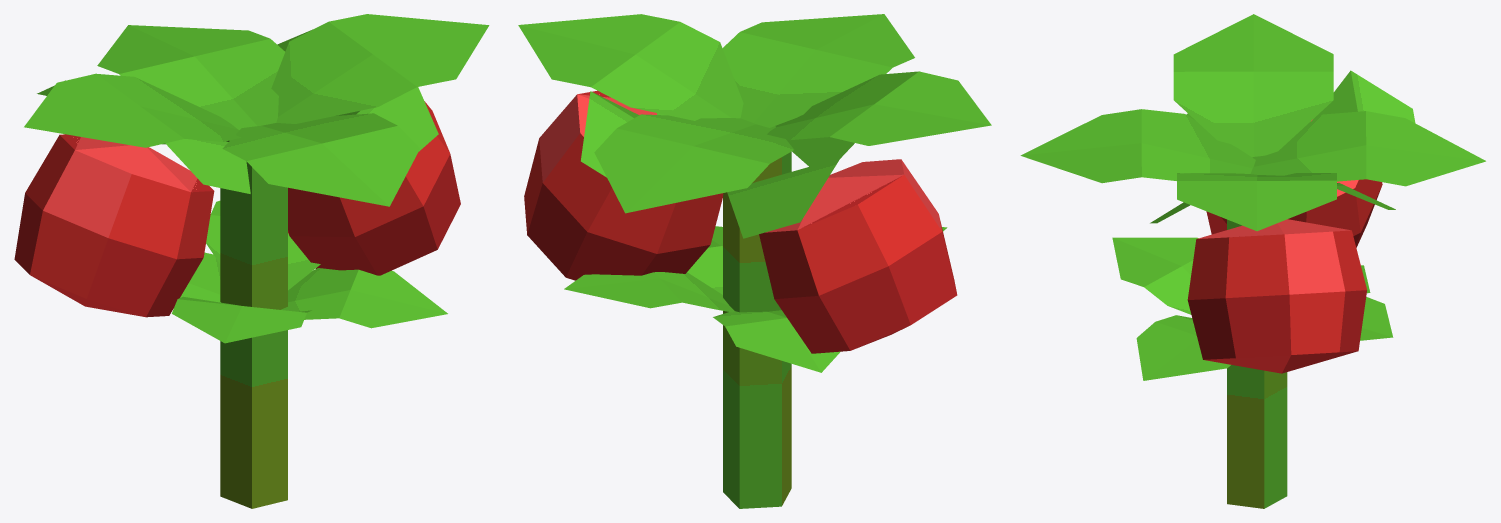
The model's file is Tomato_001-4.fbx.
The picture shows the model from 3 angles, left to right: view 1: azimuth 30°, elevation 25°; view 2: azimuth 150°, elevation 25°; view 3: azimuth 270°, elevation 25°; orthographic projection. The views are drawn at different scales.
Parts seen in each view (by area): view 1: Tomato_001-4-1, Tomato_001-4-3, Tomato_001-4-2; view 2: Tomato_001-4-1, Tomato_001-4-3, Tomato_001-4-2; view 3: Tomato_001-4-1, Tomato_001-4-2, Tomato_001-4-3.
Boxes of the visible parts, x1=… form: Tomato_001-4-1: x1=24, y1=14, x2=489, y2=508; Tomato_001-4-3: x1=14, y1=80, x2=250, y2=317; Tomato_001-4-2: x1=277, y1=29, x2=460, y2=275; Tomato_001-4-1: x1=518, y1=14, x2=991, y2=508; Tomato_001-4-3: x1=727, y1=137, x2=957, y2=353; Tomato_001-4-2: x1=524, y1=90, x2=723, y2=280; Tomato_001-4-1: x1=1020, y1=14, x2=1485, y2=508; Tomato_001-4-2: x1=1150, y1=183, x2=1395, y2=373; Tomato_001-4-3: x1=1186, y1=70, x2=1415, y2=247.
Size of the model in its own units: 50.22 by 43.4 by 48.21.
1 material, 1 textured.
